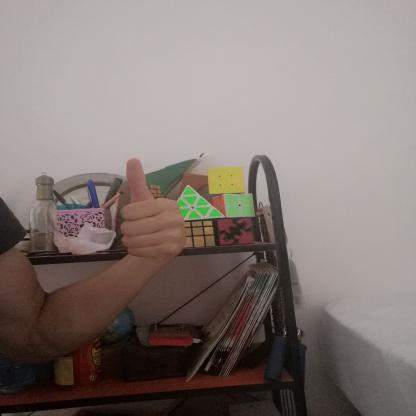ALIF: (102, 149, 191, 270)
